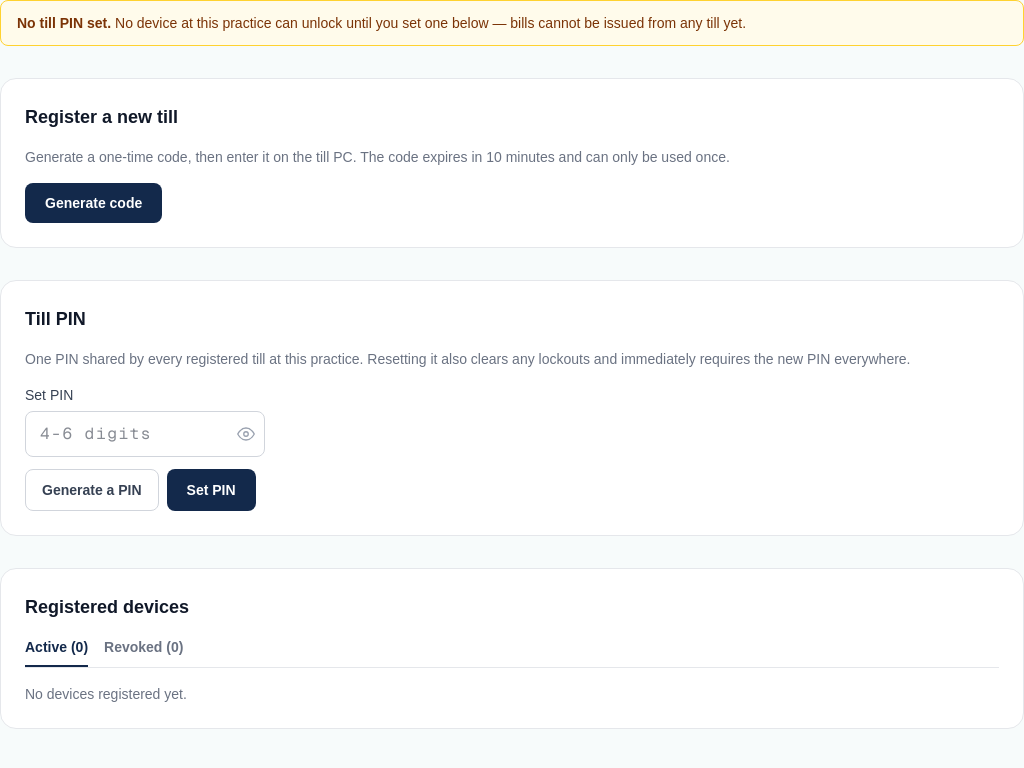
DeviceAdminView — Generate a PIN › a generation error is shown and the field is left untouched
Click the button with test id "till-pin-generate" at (92, 490), box [25,469,159,511]
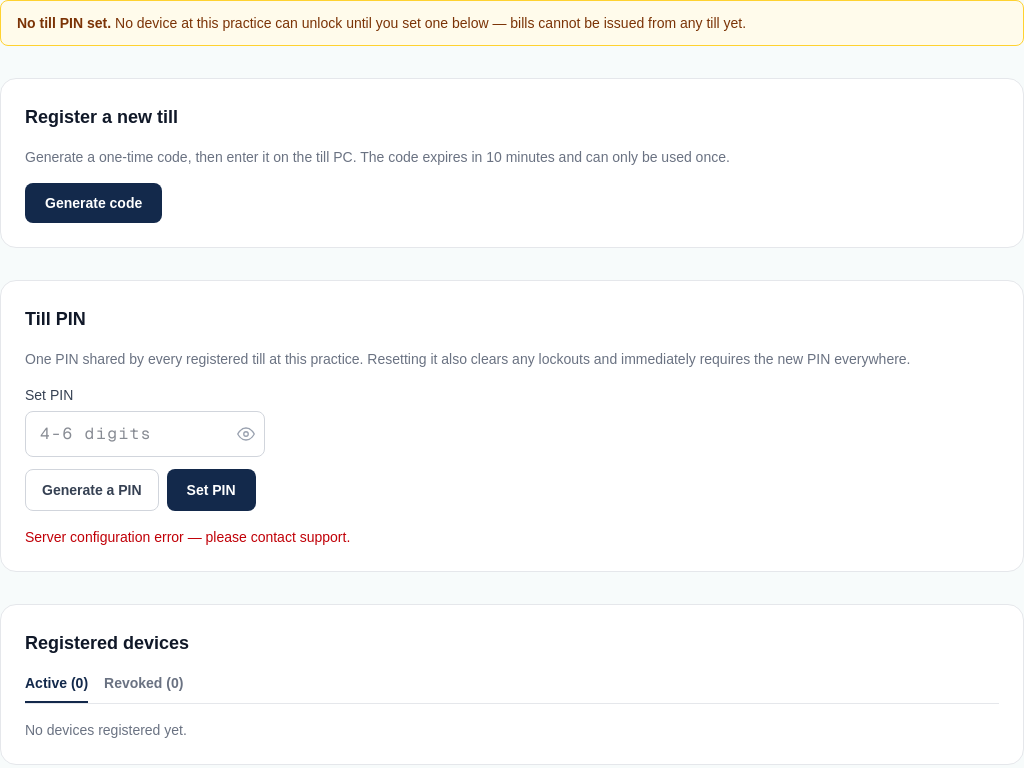
Expected: the password field with test id "till-pin-input" is empty, [25,411,265,457]
Result: the text "Server configuration error — please contact support." is shown at [25,529,350,545]
